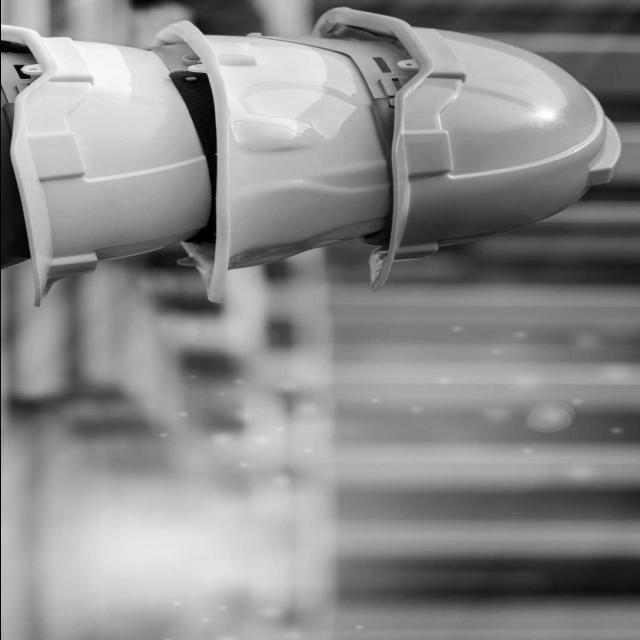construction helmet: (308, 7, 620, 289), (164, 29, 383, 300), (0, 23, 207, 303)
